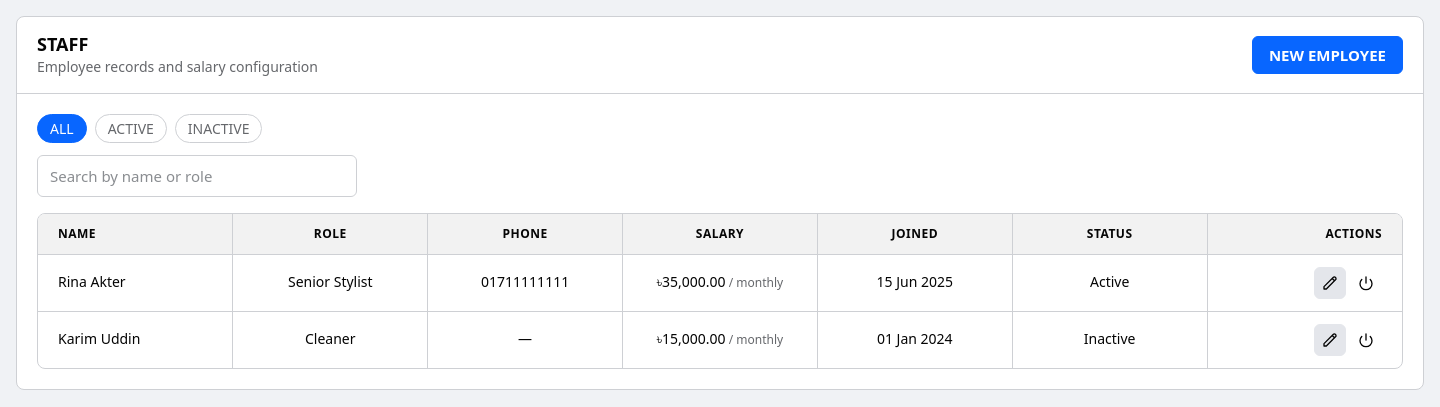
Test: StaffPage › searches by name or role
The image size is (1440, 407).
Expected: the text "Rina Akter" is shown, [58,272,126,291]
Type "clean" into the dropdown with placeholder "Search by name or role" at [197, 176], box [37,155,357,197]
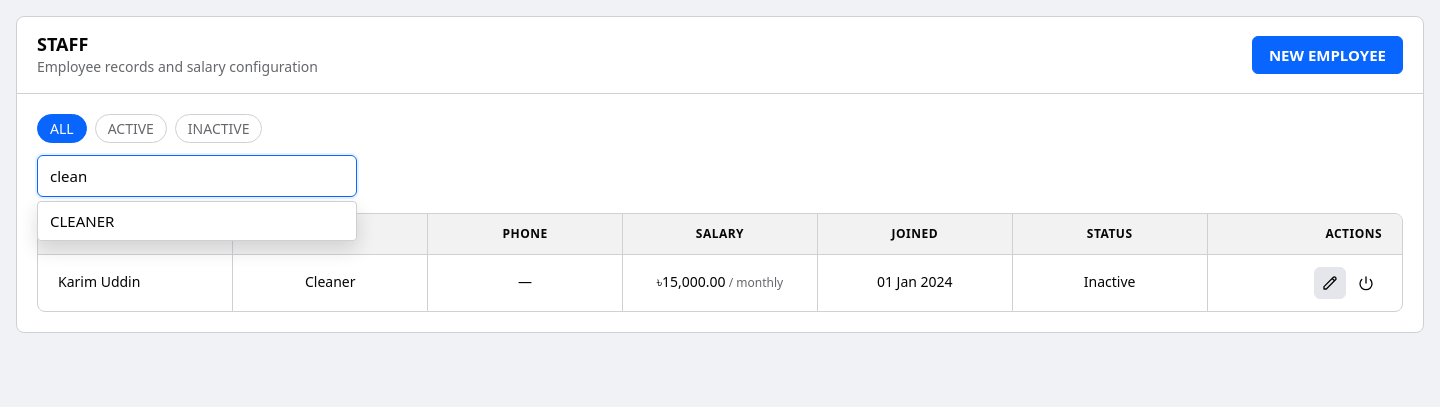
Expected: the text "Karim Uddin" is shown, [58,272,140,291]
Expected: the text "Rina Akter" is gone
